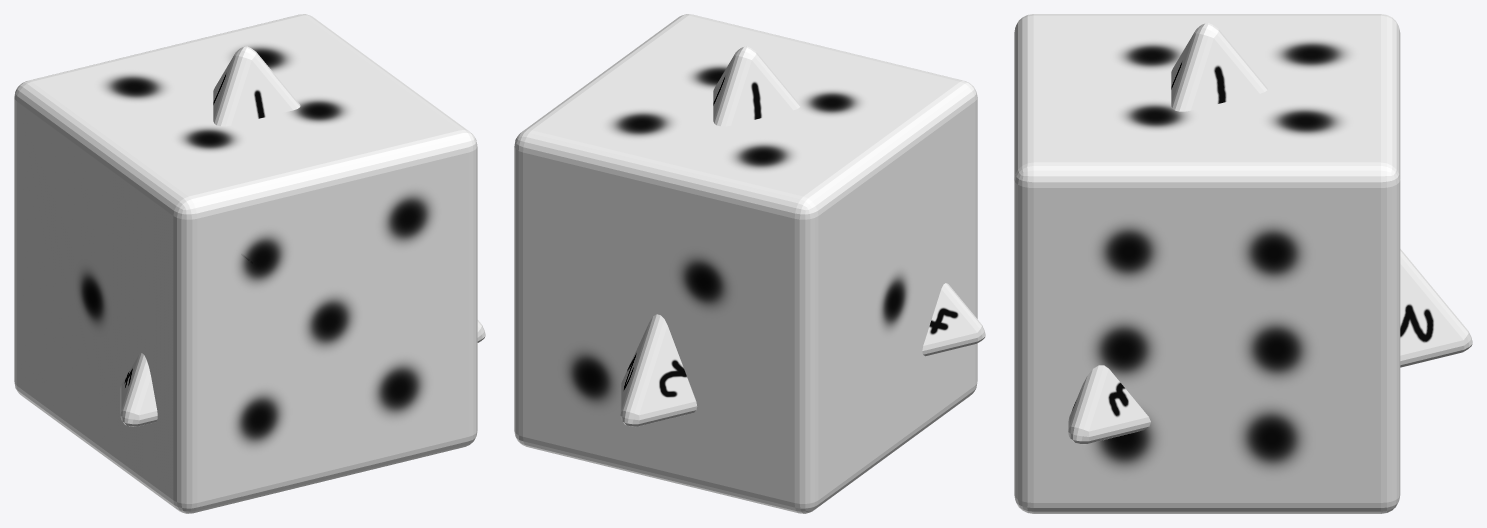
The model's file is dice.glb.
The picture shows the model from 3 angles, left to right: view 1: azimuth 30°, elevation 25°; view 2: azimuth 150°, elevation 25°; view 3: azimuth 270°, elevation 25°; orthographic projection. The views are drawn at different scales.
Parts seen in each view (by area): view 1: d6, d4; view 2: d6, d4; view 3: d6, d4.
Boxes of the visible parts, x1,y1,x2,y2 form: d6: (14,14,477,513); d4: (120,46,485,426); d6: (514,14,977,513); d4: (620,46,985,426); d6: (1014,14,1400,513); d4: (1068,23,1472,444).
Size of the model in its own units: 2.39 by 2.37 by 2.38.
Materials: 2 (2 with a texture image).
